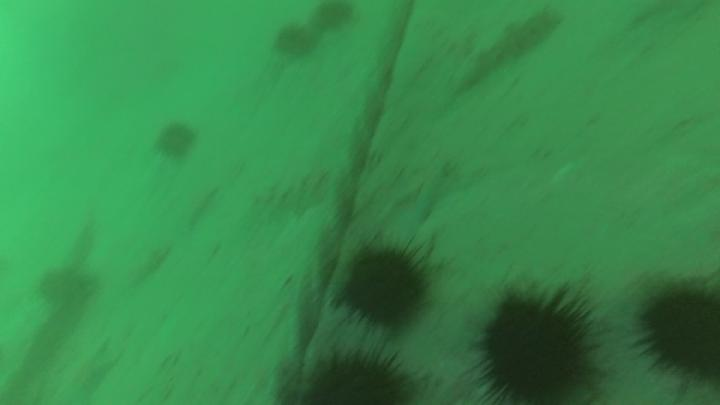echinus: (481, 298, 588, 405), (645, 292, 720, 377), (342, 249, 427, 319), (299, 363, 410, 405), (275, 24, 315, 56), (152, 126, 193, 157), (313, 2, 355, 29)
holothurian: (452, 9, 562, 93)
